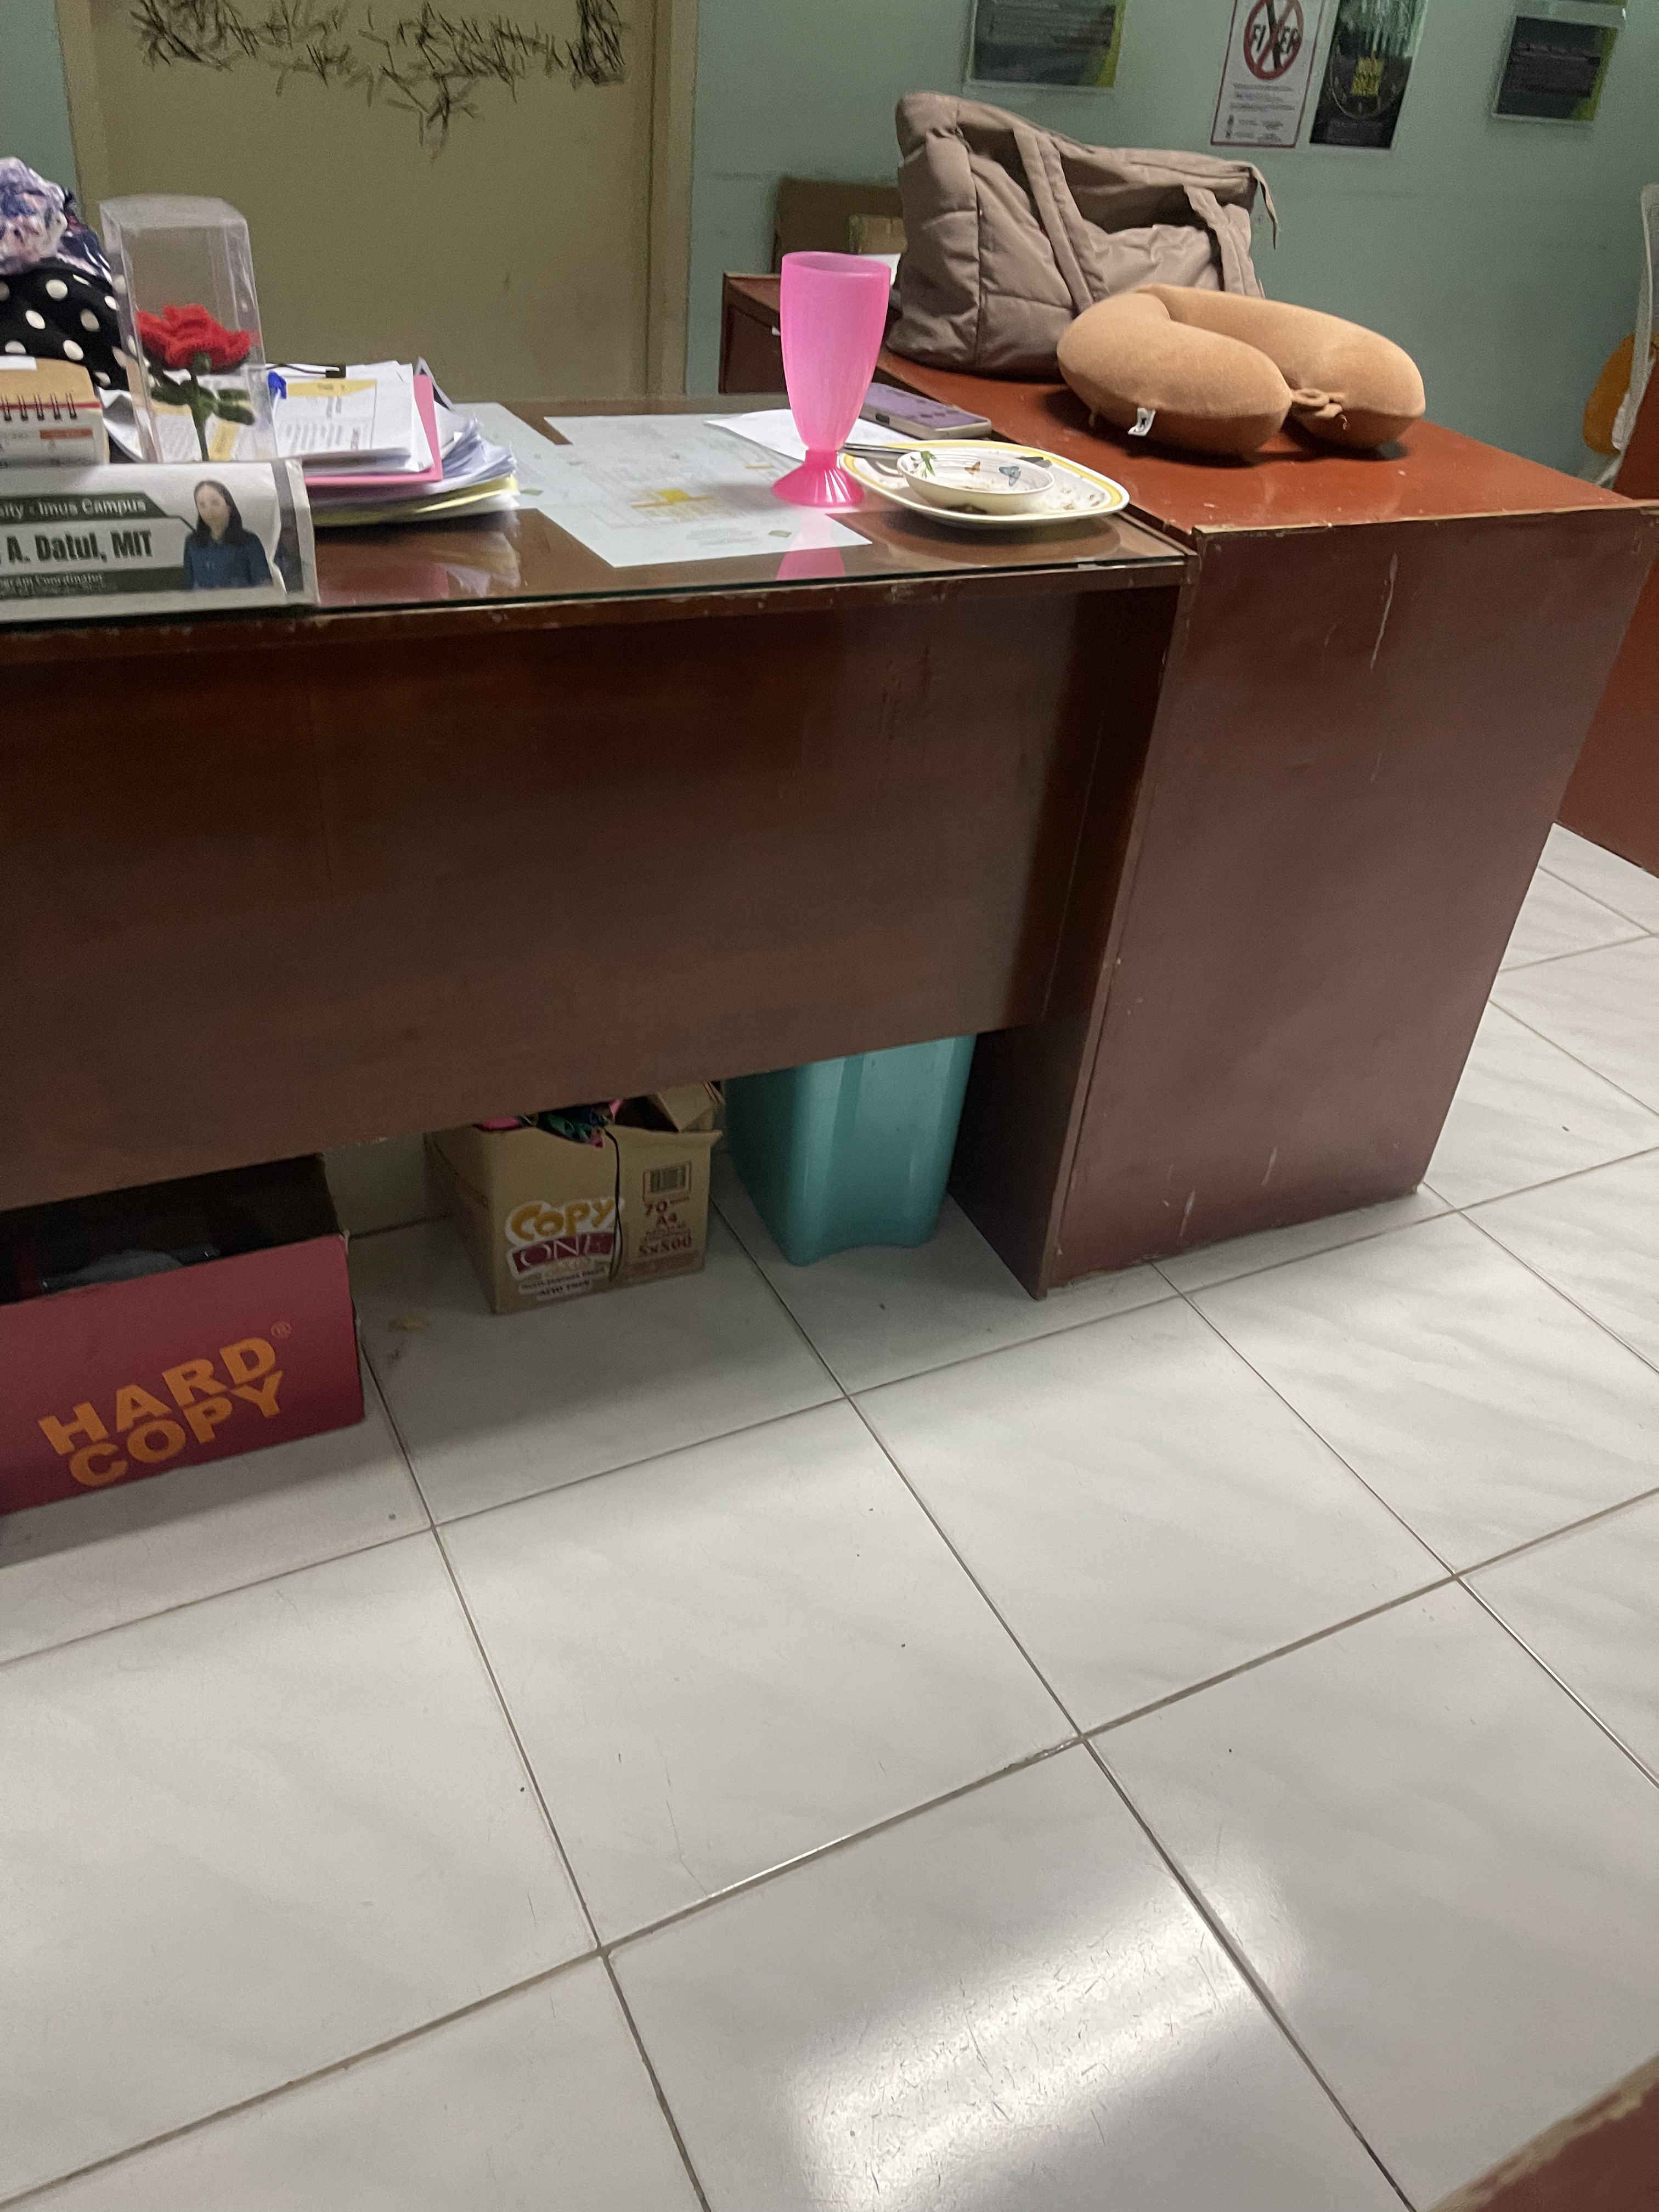table2: (0, 469, 1654, 1519)
